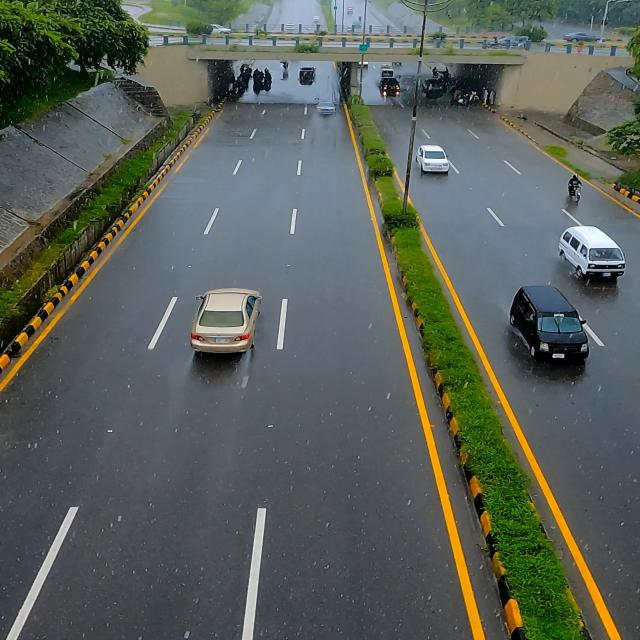Car: (504, 282, 598, 372), (196, 286, 266, 357), (557, 222, 630, 286), (410, 142, 464, 180)
